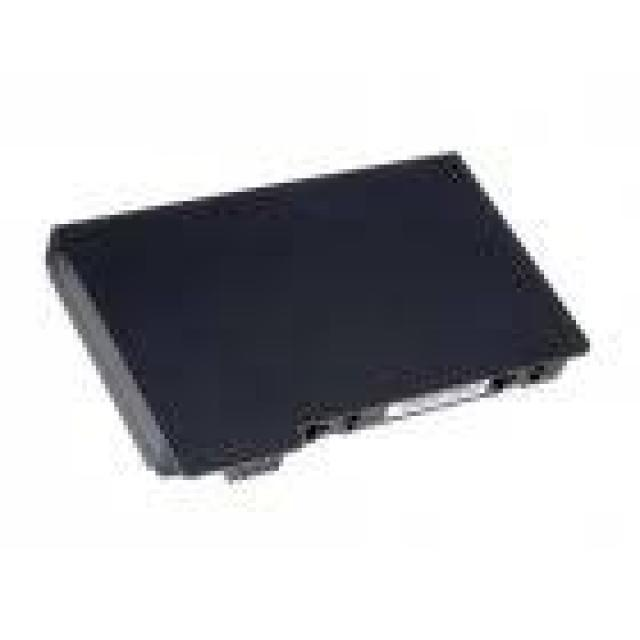battery: (46, 143, 587, 479)
